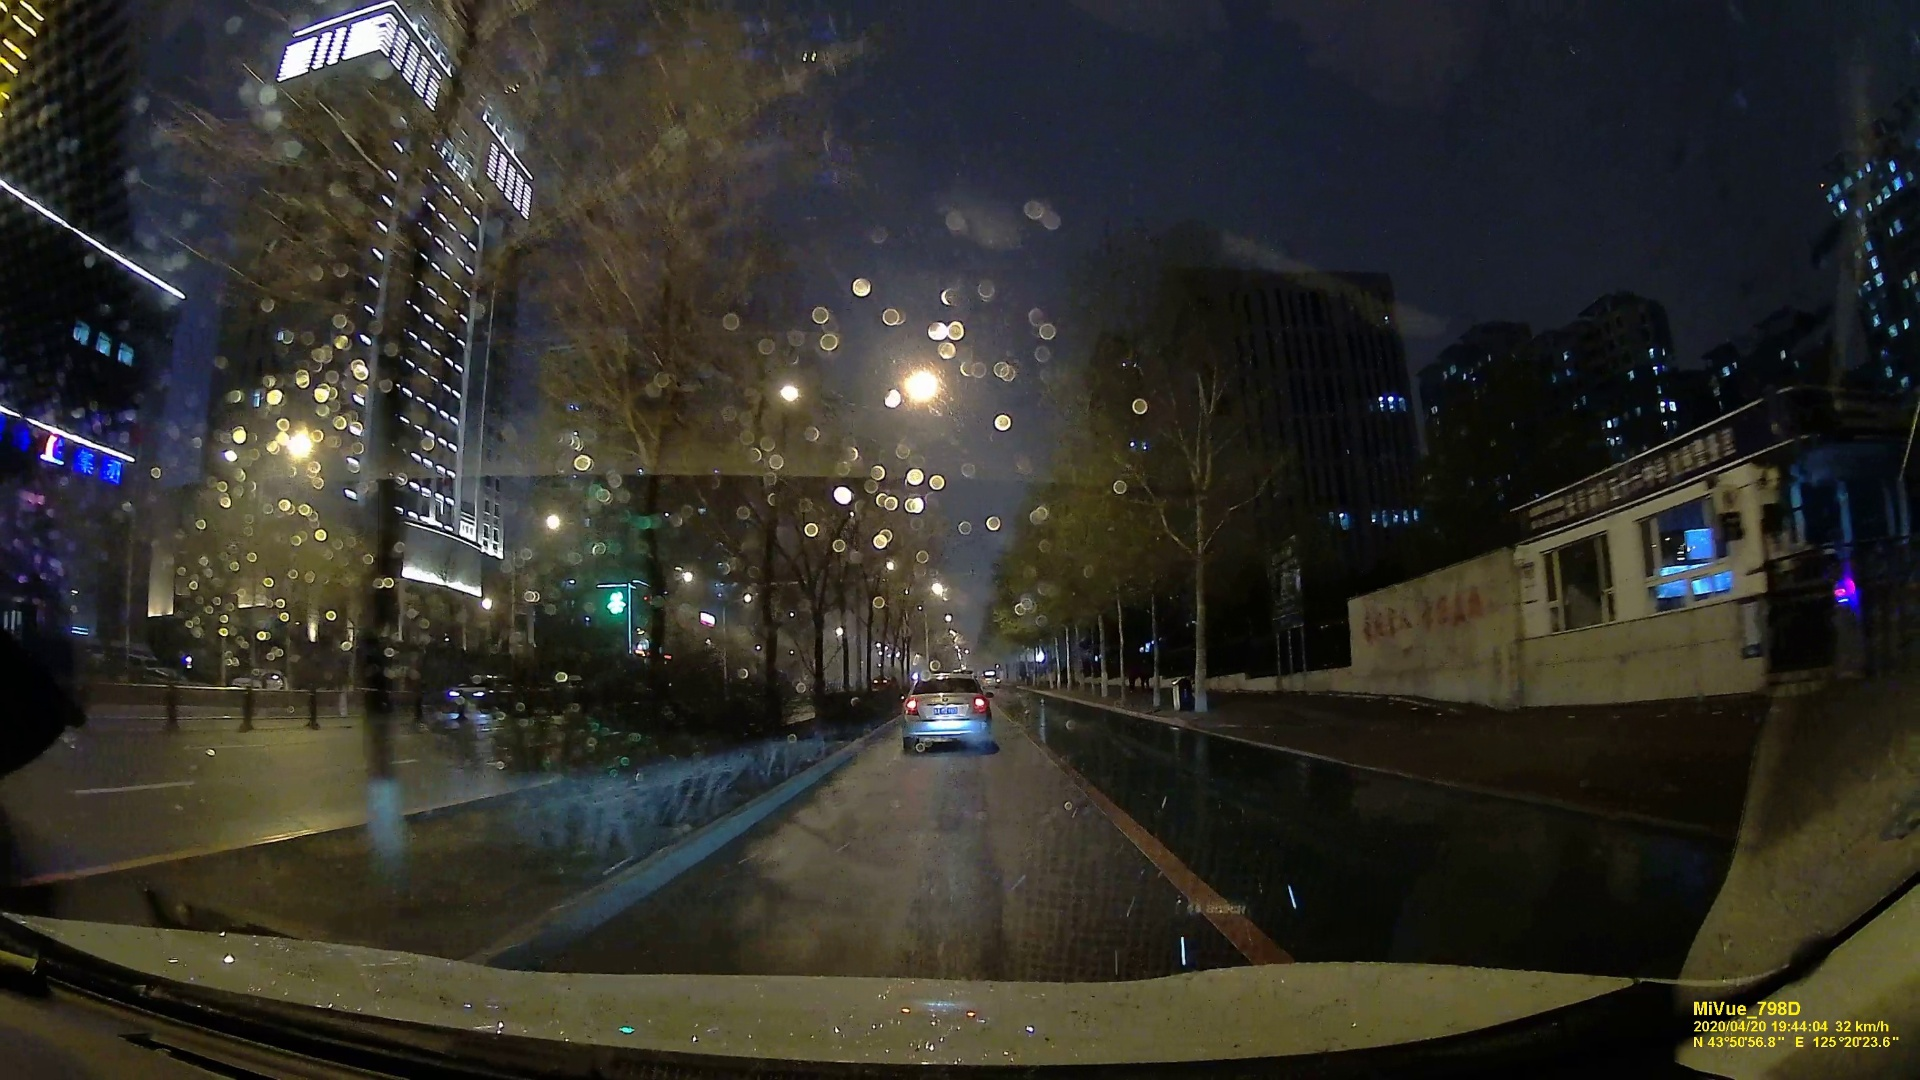vehicle: (902, 676, 992, 750), (444, 671, 516, 712)
